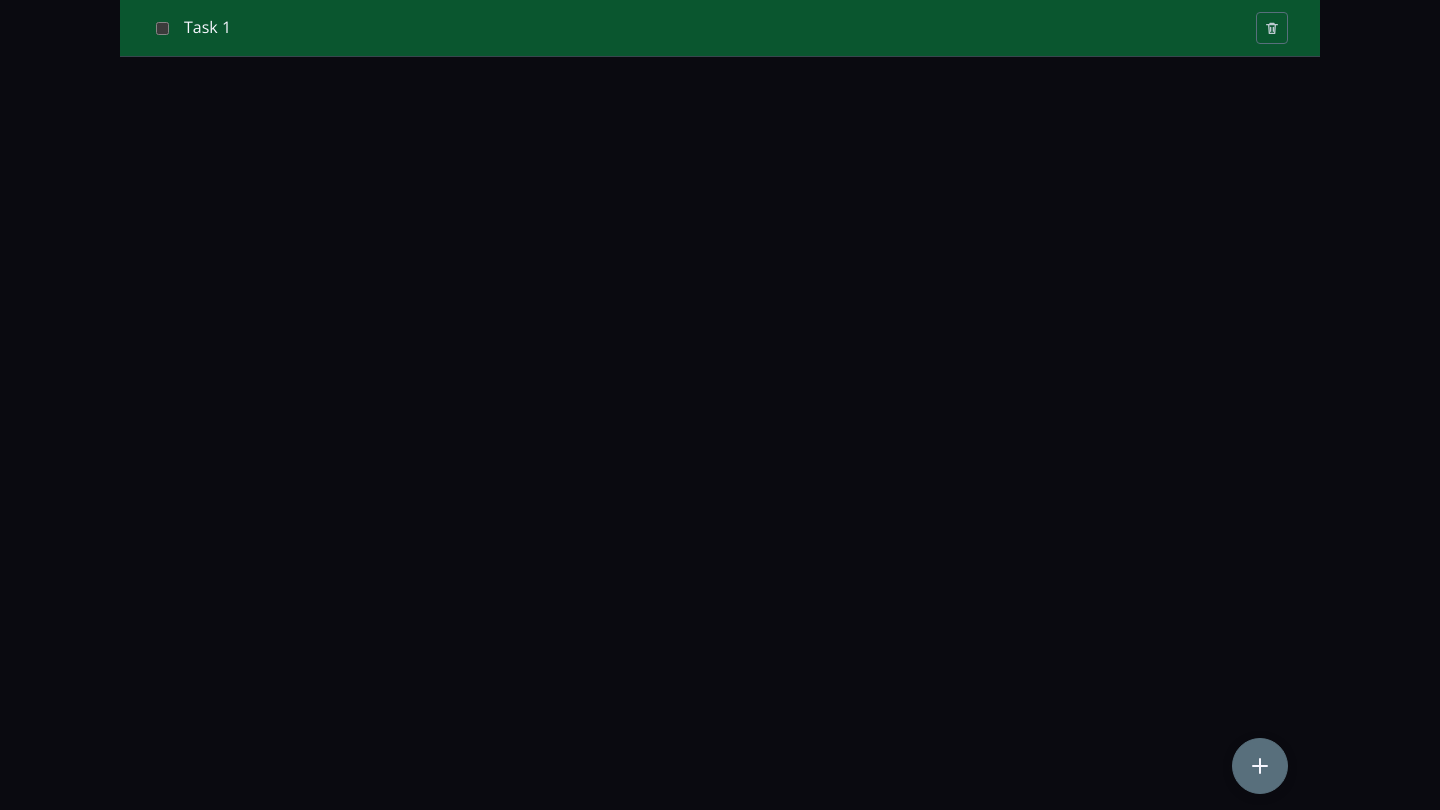
deleting from the list › deletes once confirmed
The width and height of the screenshot is (1440, 810).
Click the button named "Delete Task 1": coordinates (1272, 28) [1256, 12, 1288, 44]
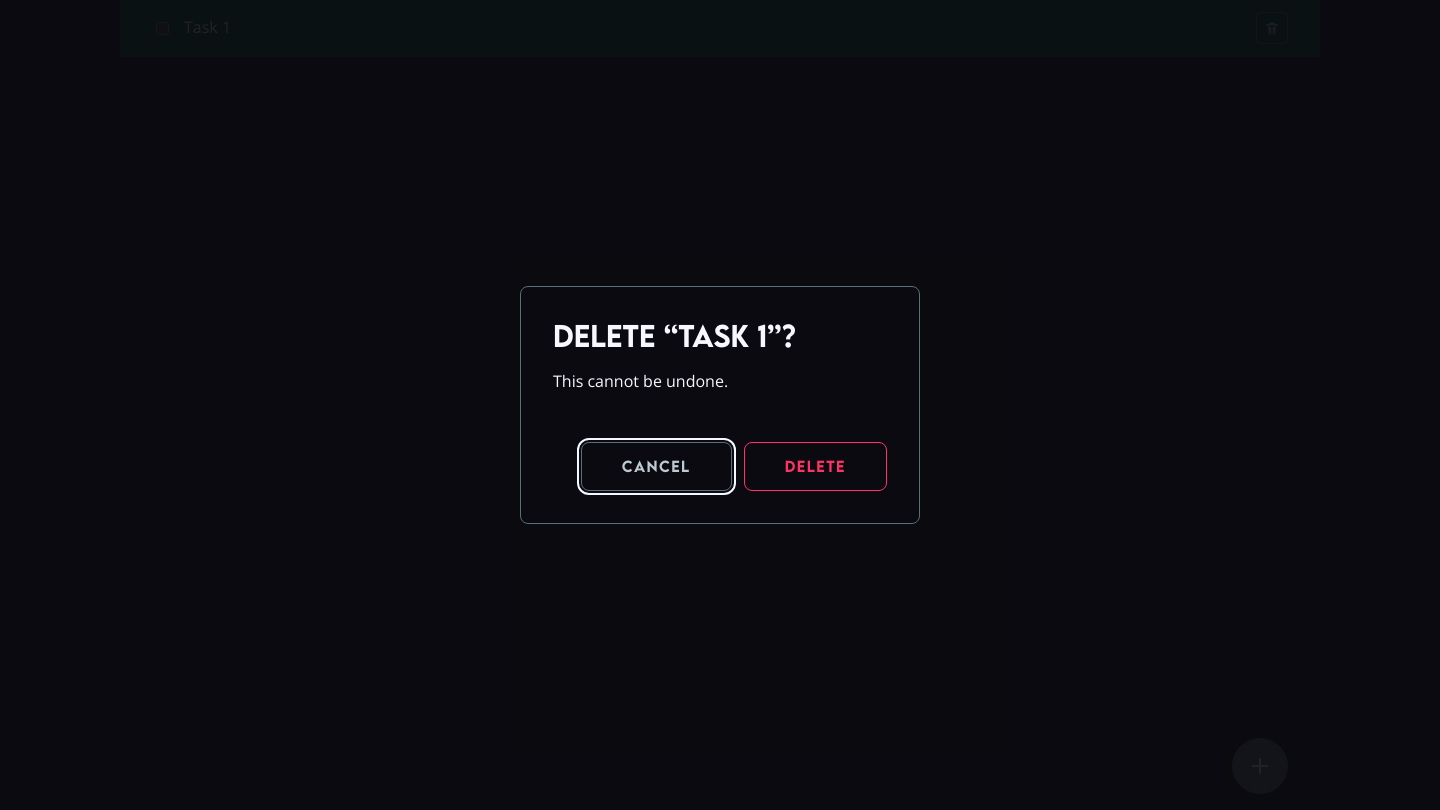
Click the button "Delete": coordinates (815, 467) [744, 442, 887, 491]
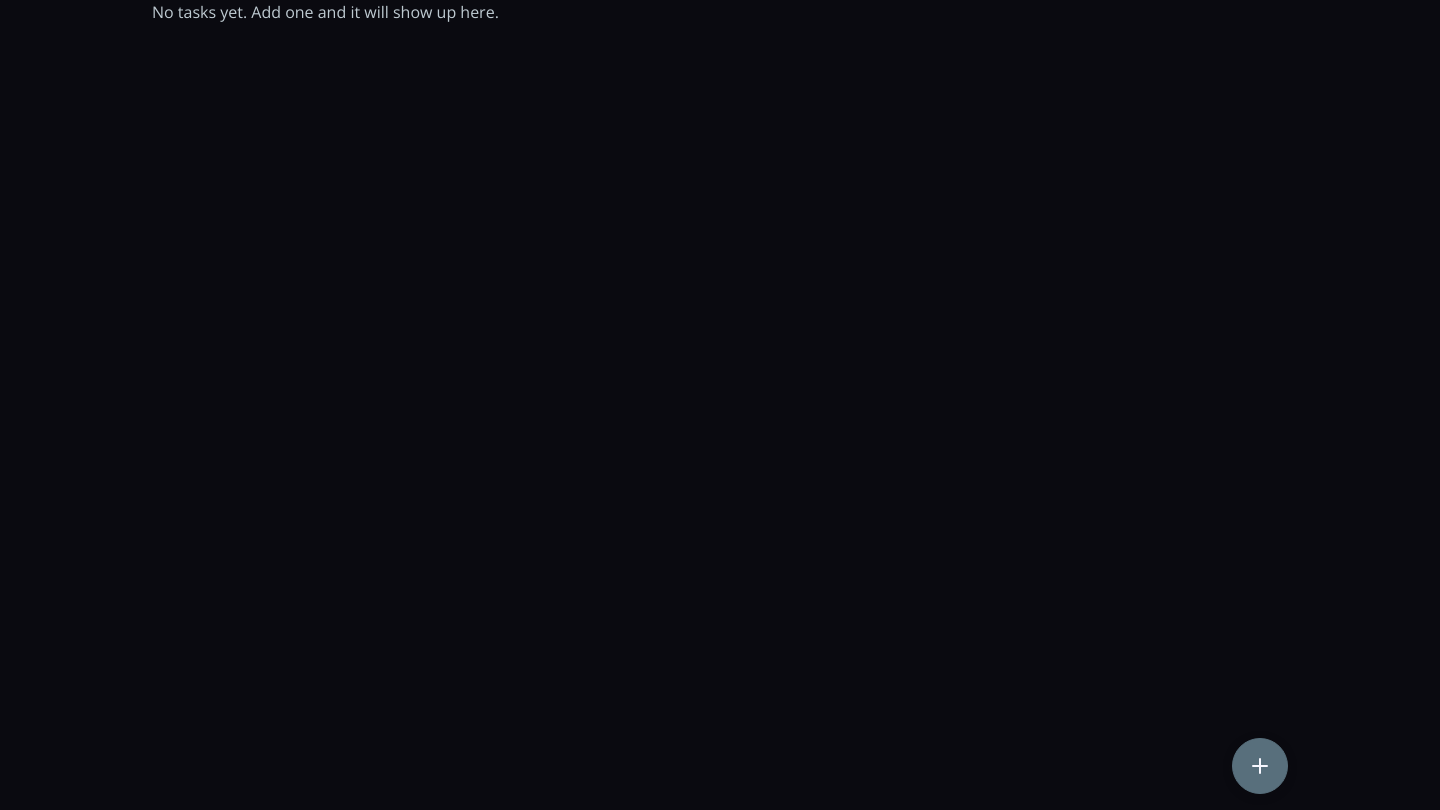
Check: no list items with class "list__row" are shown
